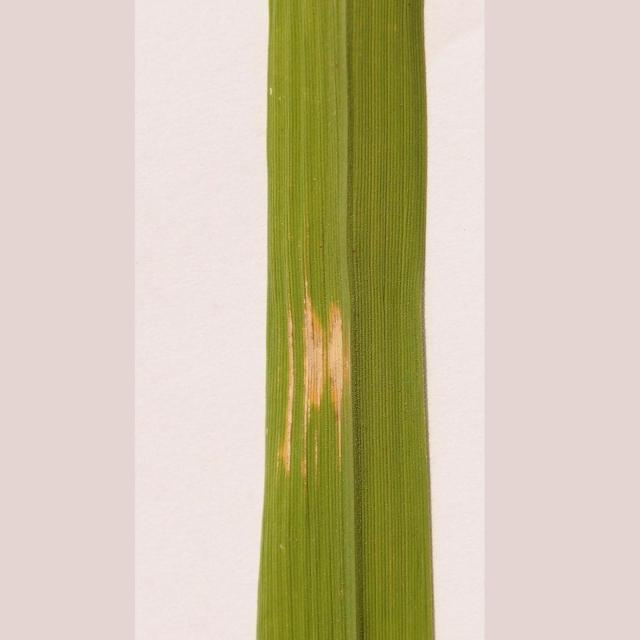Bacterial leaf blight: (278, 264, 354, 510)
